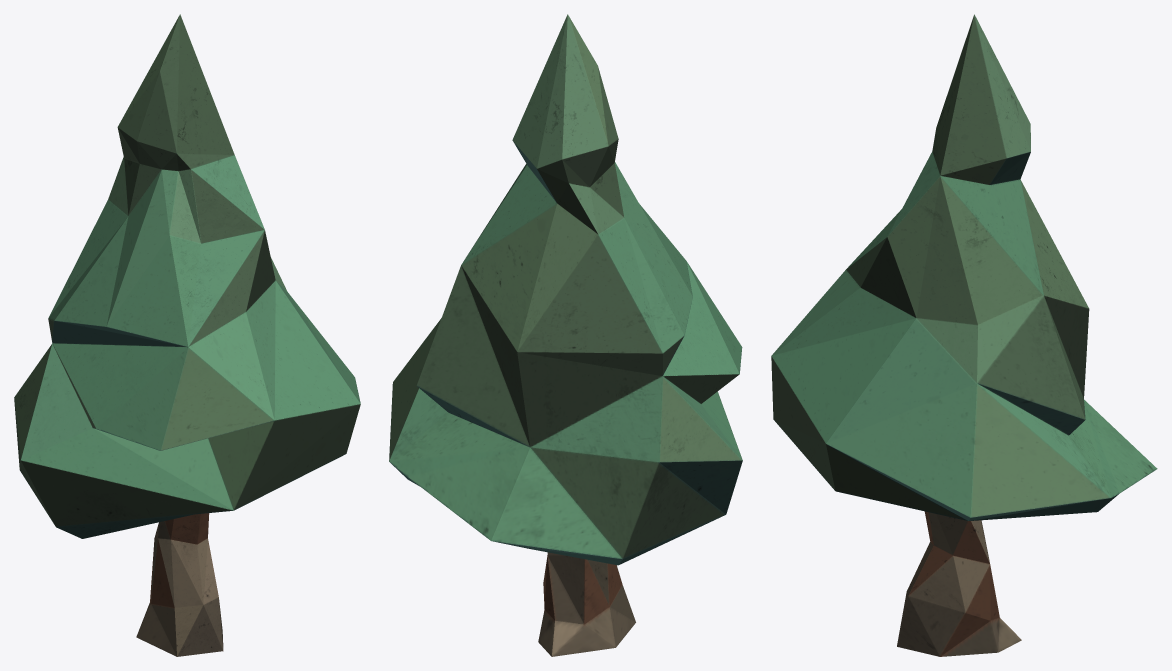
The model's file is Tree_5.obj.
3 renders of one model, left to right at view 1: azimuth 30°, elevation 25°; view 2: azimuth 150°, elevation 25°; view 3: azimuth 270°, elevation 25°, orthographic. The views are drawn at different scales.
Parts seen in each view (by area): view 1: Object.1; view 2: Object.1; view 3: Object.1.
Boxes of the visible parts, <box> form: Object.1: <box>14,14,360,656</box>; Object.1: <box>389,14,742,656</box>; Object.1: <box>771,14,1157,656</box>.
Bounding box in the file's own units: 130 × 224 × 125.
Materials: 1 (1 with a texture image).
